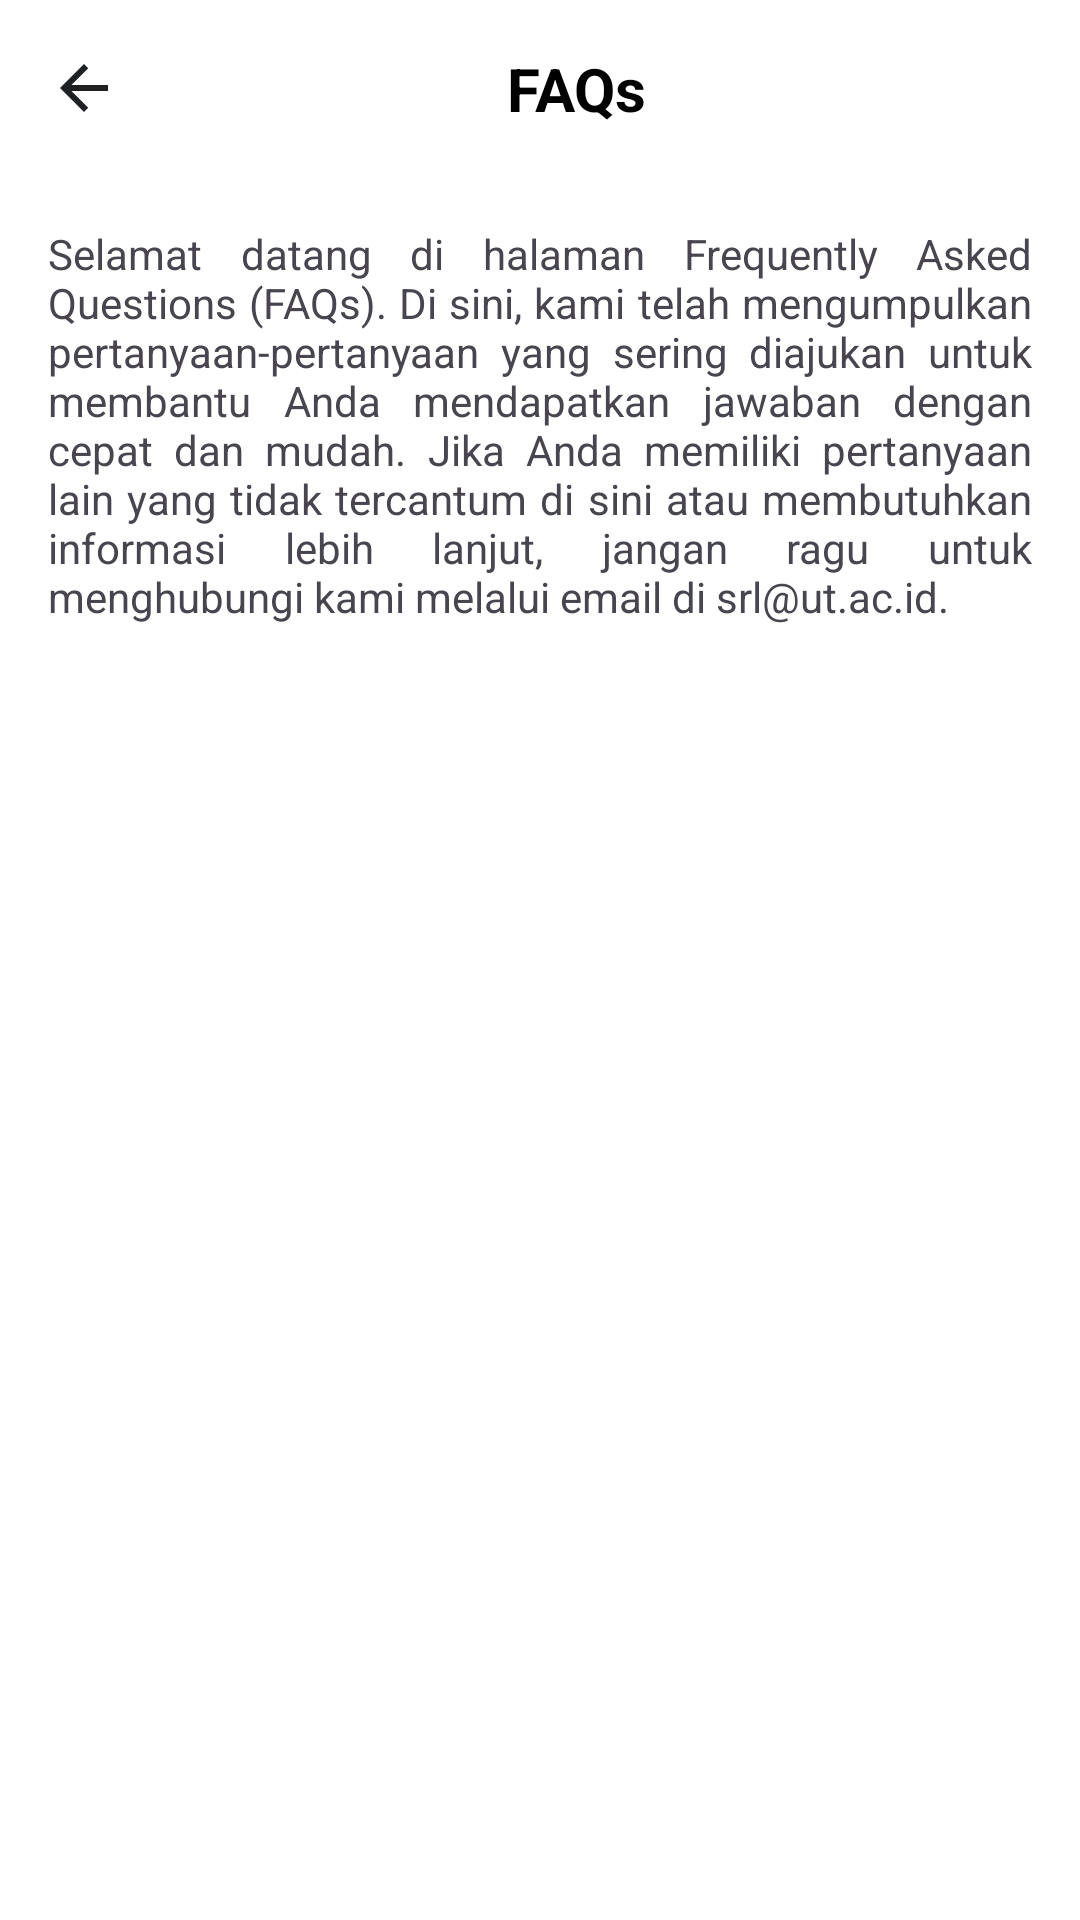

Screen size 1080×1920. Icon name, then its box in pixels as (x1, y1, x2, y2):
Back: (60, 64, 108, 112)
